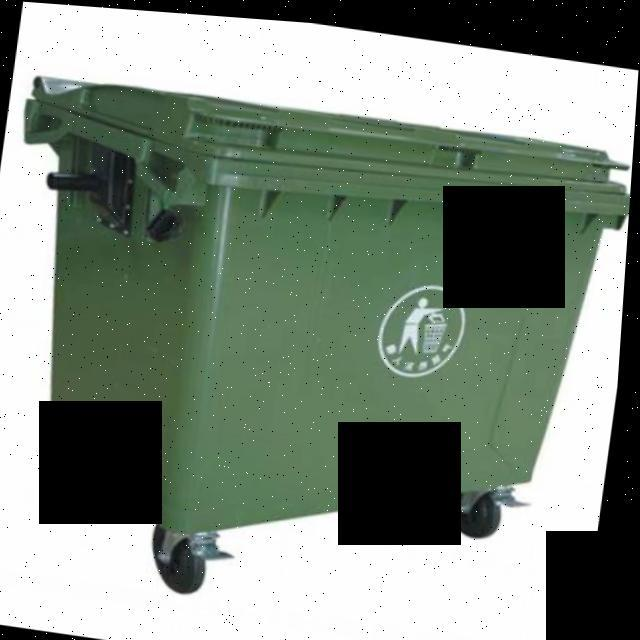bin: (0, 9, 640, 640)
